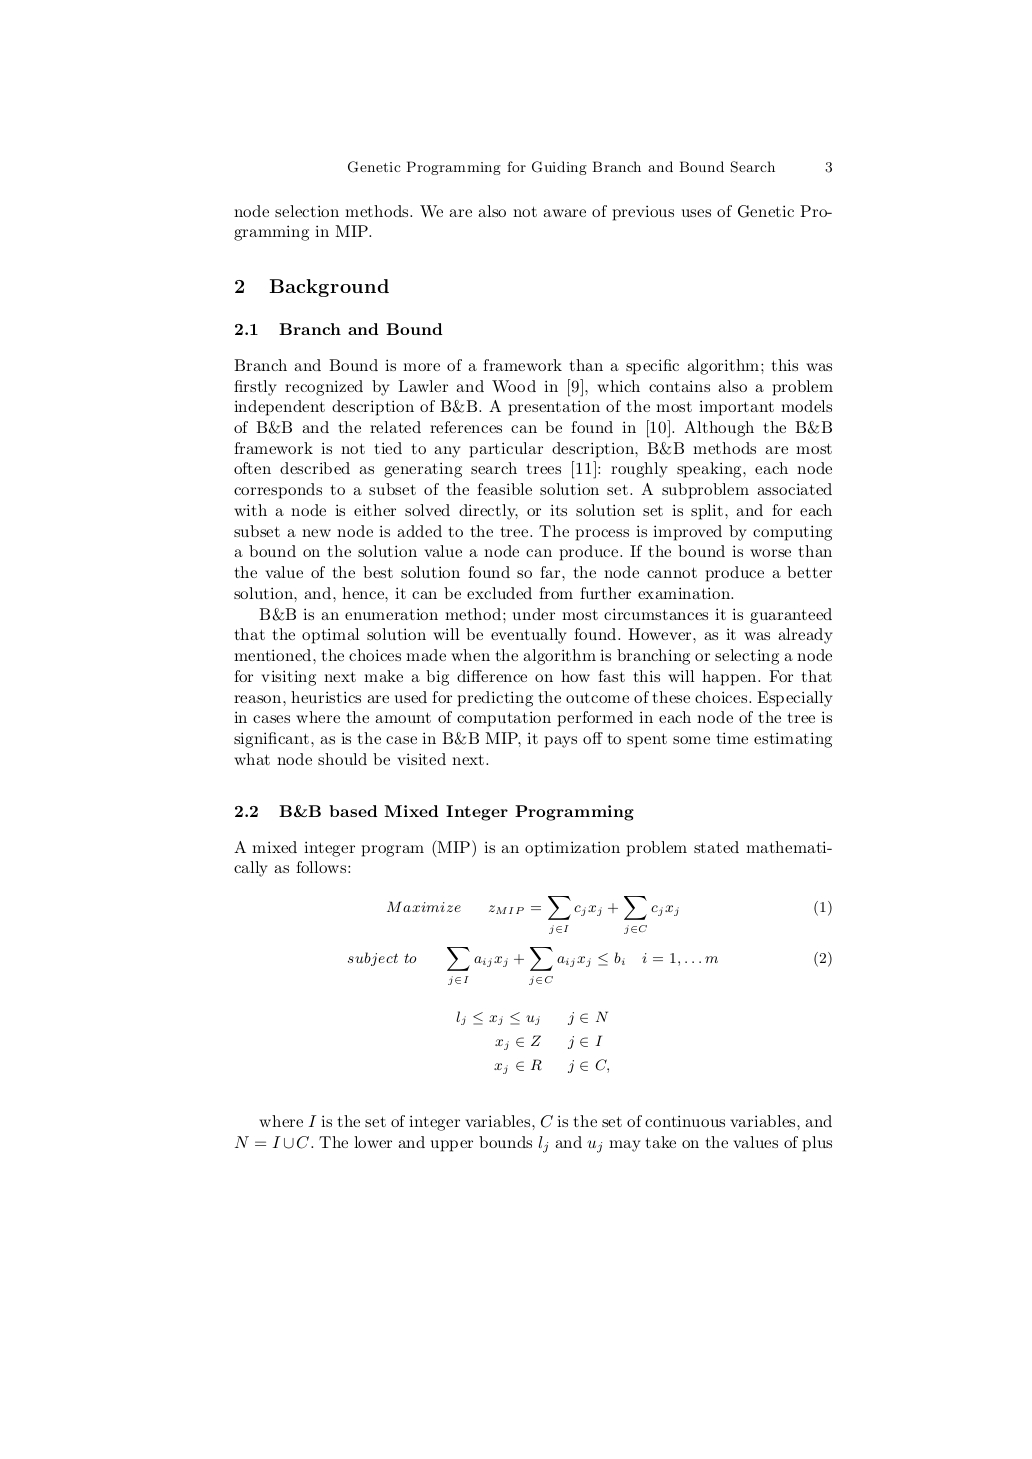formula: (347, 947, 831, 983), (386, 896, 831, 933), (456, 1010, 608, 1025), (495, 1034, 602, 1050), (494, 1058, 608, 1074)
